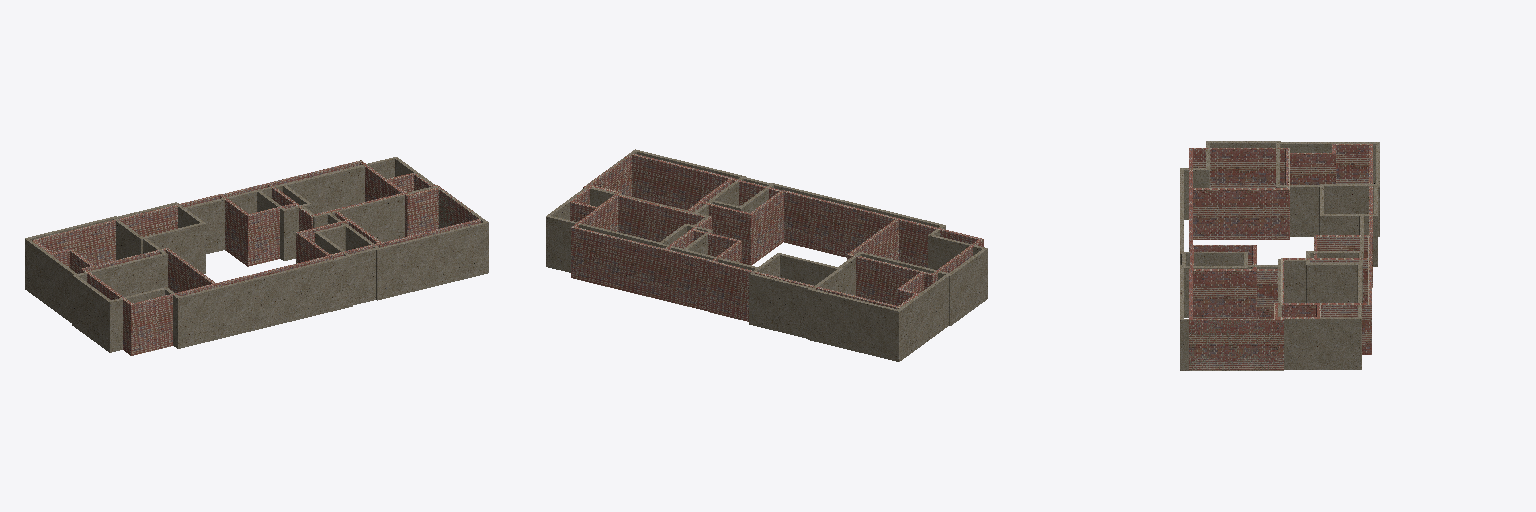
The picture shows the model from 3 angles: view 1: azimuth 30°, elevation 25°; view 2: azimuth 150°, elevation 25°; view 3: azimuth 270°, elevation 25°; orthographic projection.
Bounding box in the file's own units: 205 × 27 × 97.33.
2 materials, 2 textured.